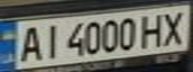0: (118, 15, 142, 52), (81, 18, 103, 56), (100, 16, 121, 53)
4: (63, 19, 87, 57)
A: (15, 23, 45, 62)
H: (136, 11, 169, 48)
I: (36, 21, 63, 60)
X: (157, 8, 193, 46)
